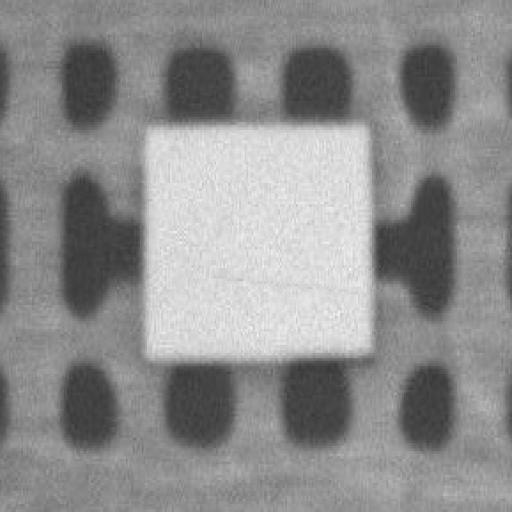DIE_CRACK: (319, 183, 512, 194)
